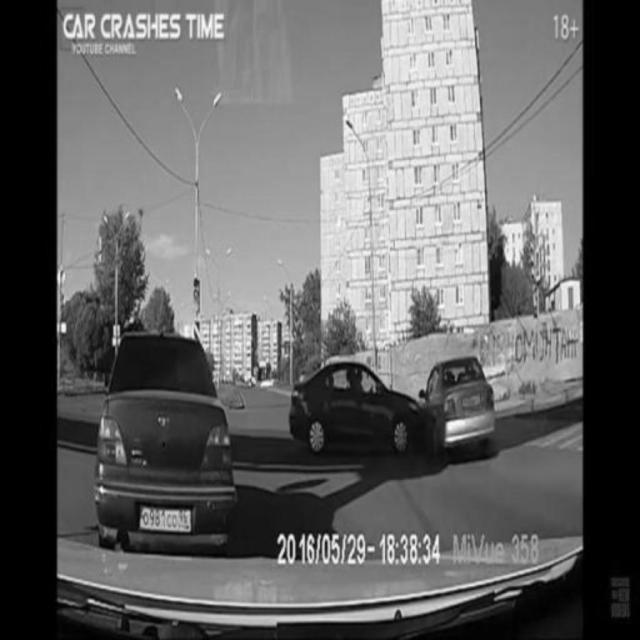accident: (294, 354, 491, 454)
vehicle: (87, 330, 237, 538)
